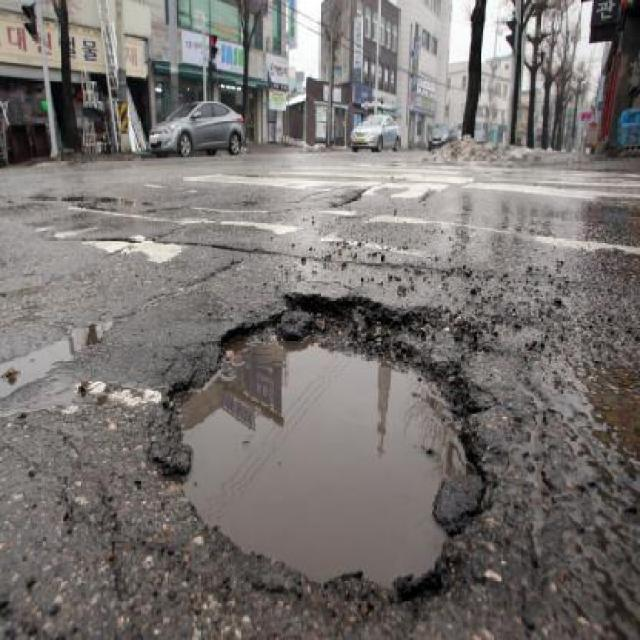Pothole: (136, 282, 498, 598)
